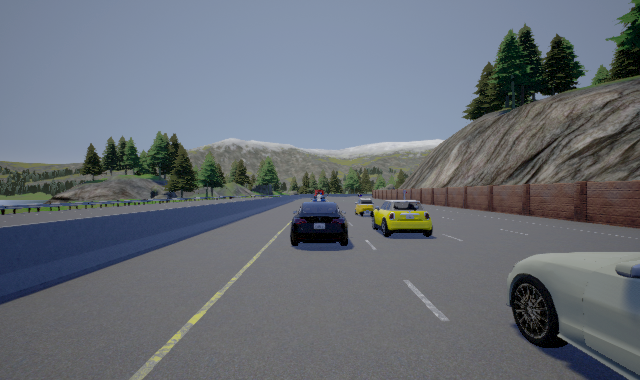traffic_sign: (403, 190, 407, 194)
vehicle: (506, 252, 640, 380), (290, 190, 348, 246), (355, 200, 433, 237)
